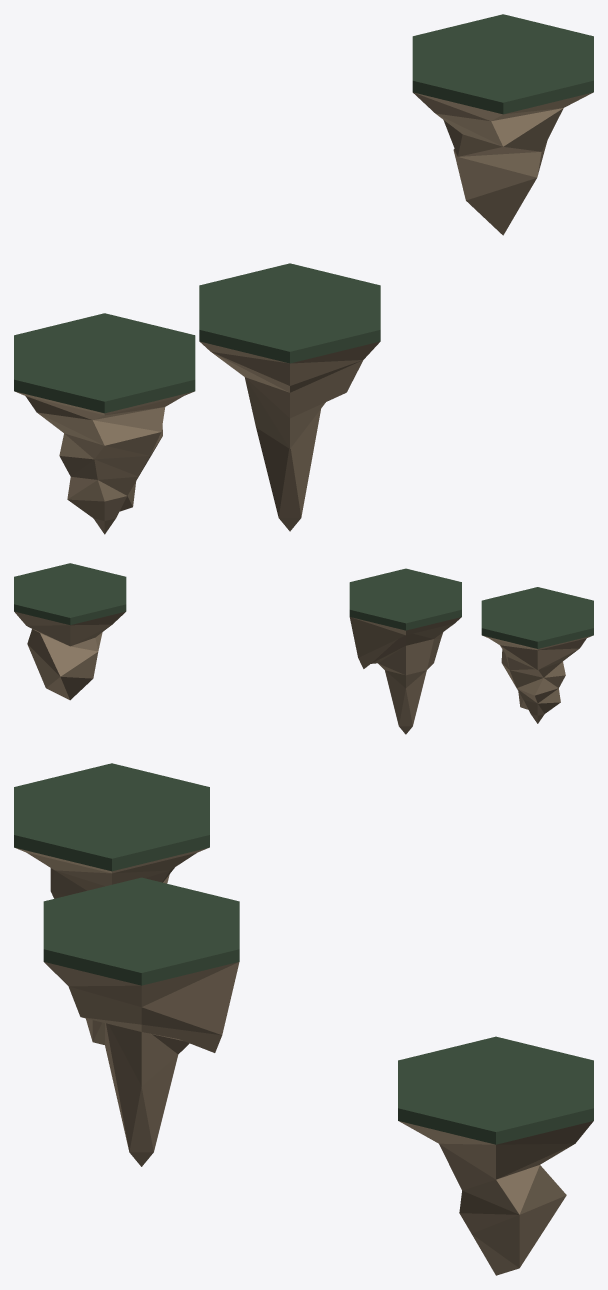
File: steps_low_poly.fbx
The picture shows the model from 3 angles, top to bottom: view 1: azimuth 30°, elevation 25°; view 2: azimuth 150°, elevation 25°; view 3: azimuth 270°, elevation 25°; orthographic projection. The views are drawn at different scales.
Visible parts, largest first — view 1: island3, island4, island2; view 2: island3, island4, island2; view 3: island3, island4, island2.
Boxes of the visible parts, left/top/right/bottom form: island3: left=199, top=263, right=380, bottom=531; island4: left=412, top=14, right=593, bottom=235; island2: left=14, top=313, right=195, bottom=534; island3: left=349, top=568, right=461, bottom=734; island4: left=14, top=563, right=126, bottom=700; island2: left=481, top=587, right=593, bottom=723; island3: left=43, top=877, right=239, bottom=1166; island4: left=398, top=1036, right=593, bottom=1275; island2: left=14, top=763, right=209, bottom=898.
Size of the model in its own units: 25.6 by 8.42 by 15.72.
